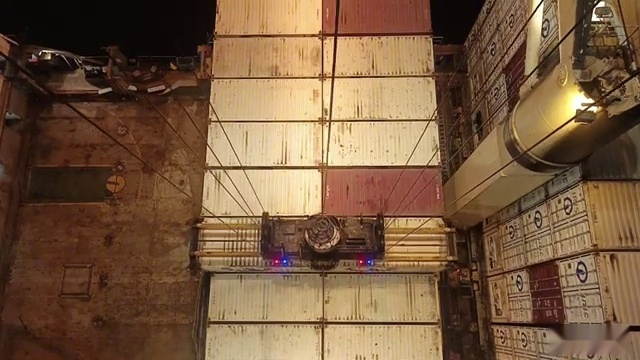container: (202, 218, 444, 273), (208, 275, 442, 326), (205, 118, 445, 167), (201, 170, 444, 216), (209, 79, 435, 124), (207, 325, 446, 360), (201, 345, 444, 359)
guide_mark: (65, 347, 560, 360), (112, 355, 545, 360)
spreader: (186, 207, 466, 276)
target_slot: (189, 212, 455, 280)
